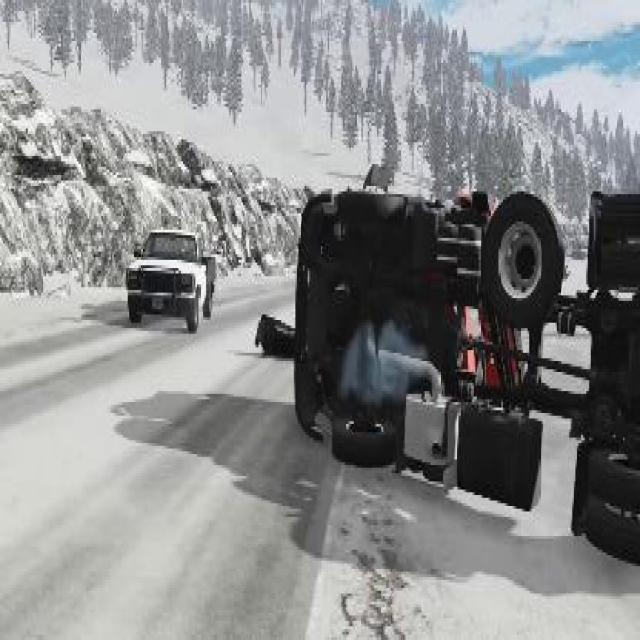accident: (291, 148, 640, 577)
